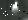person: (12, 1, 21, 15)
